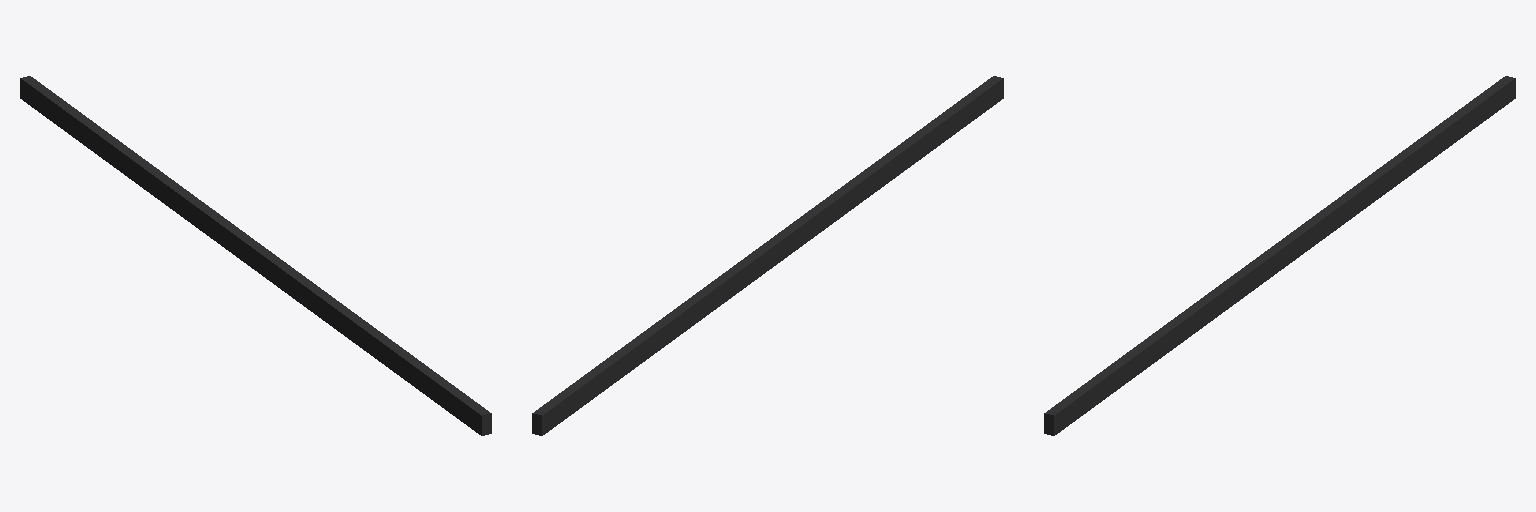
robot.urdf — wall:
<robot name="wall">
  <link name="baseLink">
   
    <inertial>
      <origin rpy="0 0 0" xyz="0 0 0" />
       <mass value="10" />
       <inertia ixx="0" ixy="0" ixz="0" iyy="0" iyz="0" izz="0" />
    </inertial>
    <visual>
      <origin rpy="0 0 0" xyz="0 0 0" />
      <geometry>
			  <box size="0.1 8.1 0.2" />
      </geometry>
       <material name="grey">
        <color rgba="0.24 0.24 0.24 1" />
      </material>
    </visual>
    <collision>
      <origin rpy="0 0 0" xyz="0 0 0" />
      <geometry>
	 	      <box size="0.1 8.1 0.2" />
      </geometry>
    </collision>
  </link>
</robot>

--- Render facts (derived) ---
3 views of the same robot in one strip: view 1: azimuth 30°, elevation 25°; view 2: azimuth 150°, elevation 25°; view 3: azimuth 330°, elevation 25° (orthographic).
Robot: wall — 1 links, 0 joints (none); root link baseLink; default pose: all joints at 0.
Visible links, largest first — view 1: baseLink; view 2: baseLink; view 3: baseLink.
Link boxes in pixels (bbox=[...]): baseLink: bbox=[20, 76, 491, 435]; baseLink: bbox=[532, 76, 1003, 435]; baseLink: bbox=[1044, 76, 1515, 435].
Size in the robot's own frame: 0.1 by 8.1 by 0.2 metres.
Geometry: primitives only (box / cylinder / sphere), no mesh files.
